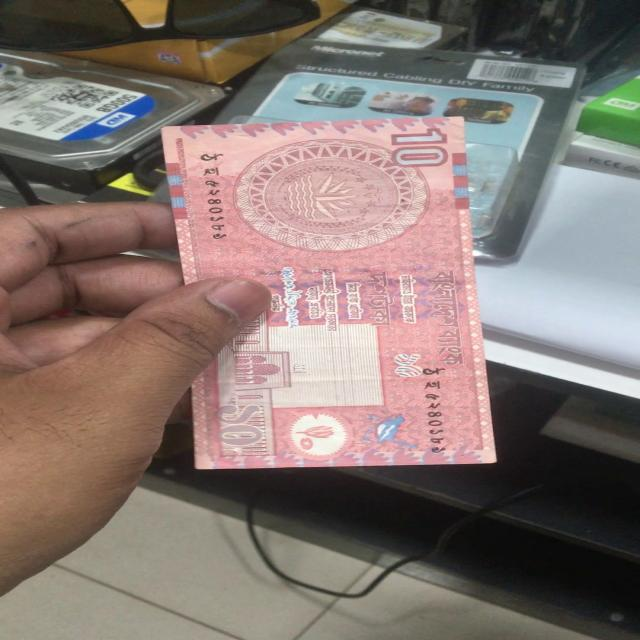Taka: (155, 121, 500, 469)
